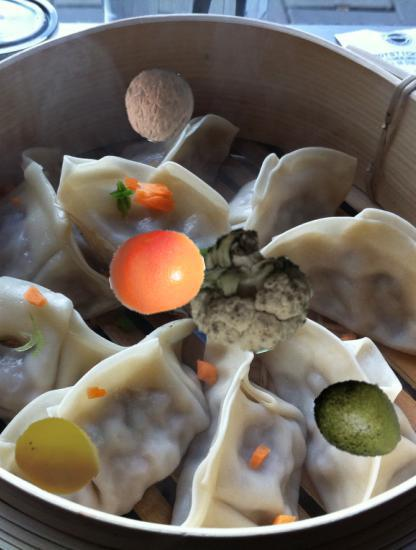Avocado: (312, 369, 407, 464)
Cauliflower: (184, 225, 313, 354)
Grapefruit: (108, 223, 206, 321)
Peach: (14, 413, 102, 501)
Walnut: (122, 69, 196, 143)
